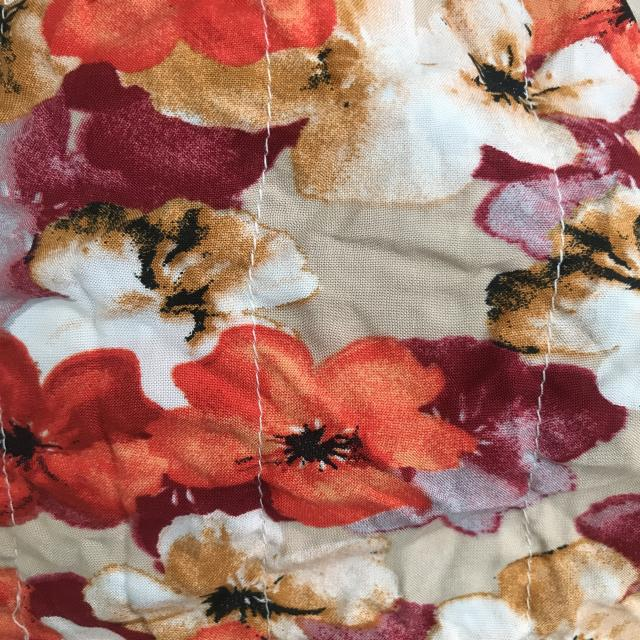good: (231, 336, 276, 492), (519, 357, 561, 460), (262, 34, 278, 185)
